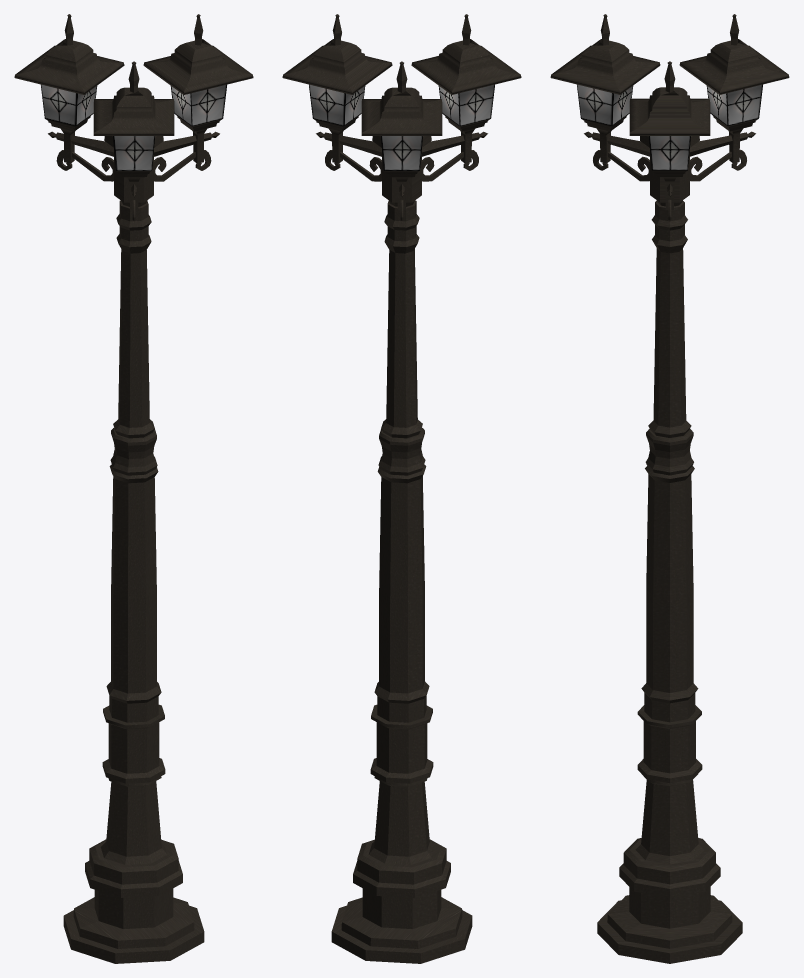
3 renders of one model, left to right at view 1: azimuth 30°, elevation 25°; view 2: azimuth 150°, elevation 25°; view 3: azimuth 270°, elevation 25°, orthographic.
Parts seen in each view (by area): view 1: polySurface10; view 2: polySurface10; view 3: polySurface10.
Part boxes in pixels (x1,y1,x2,y2): polySurface10: (14,14,253,963); polySurface10: (282,14,521,963); polySurface10: (550,14,789,963).
Size of the model in its own units: 62.59 by 302 by 72.32.
Materials: 1 (1 with a texture image).
